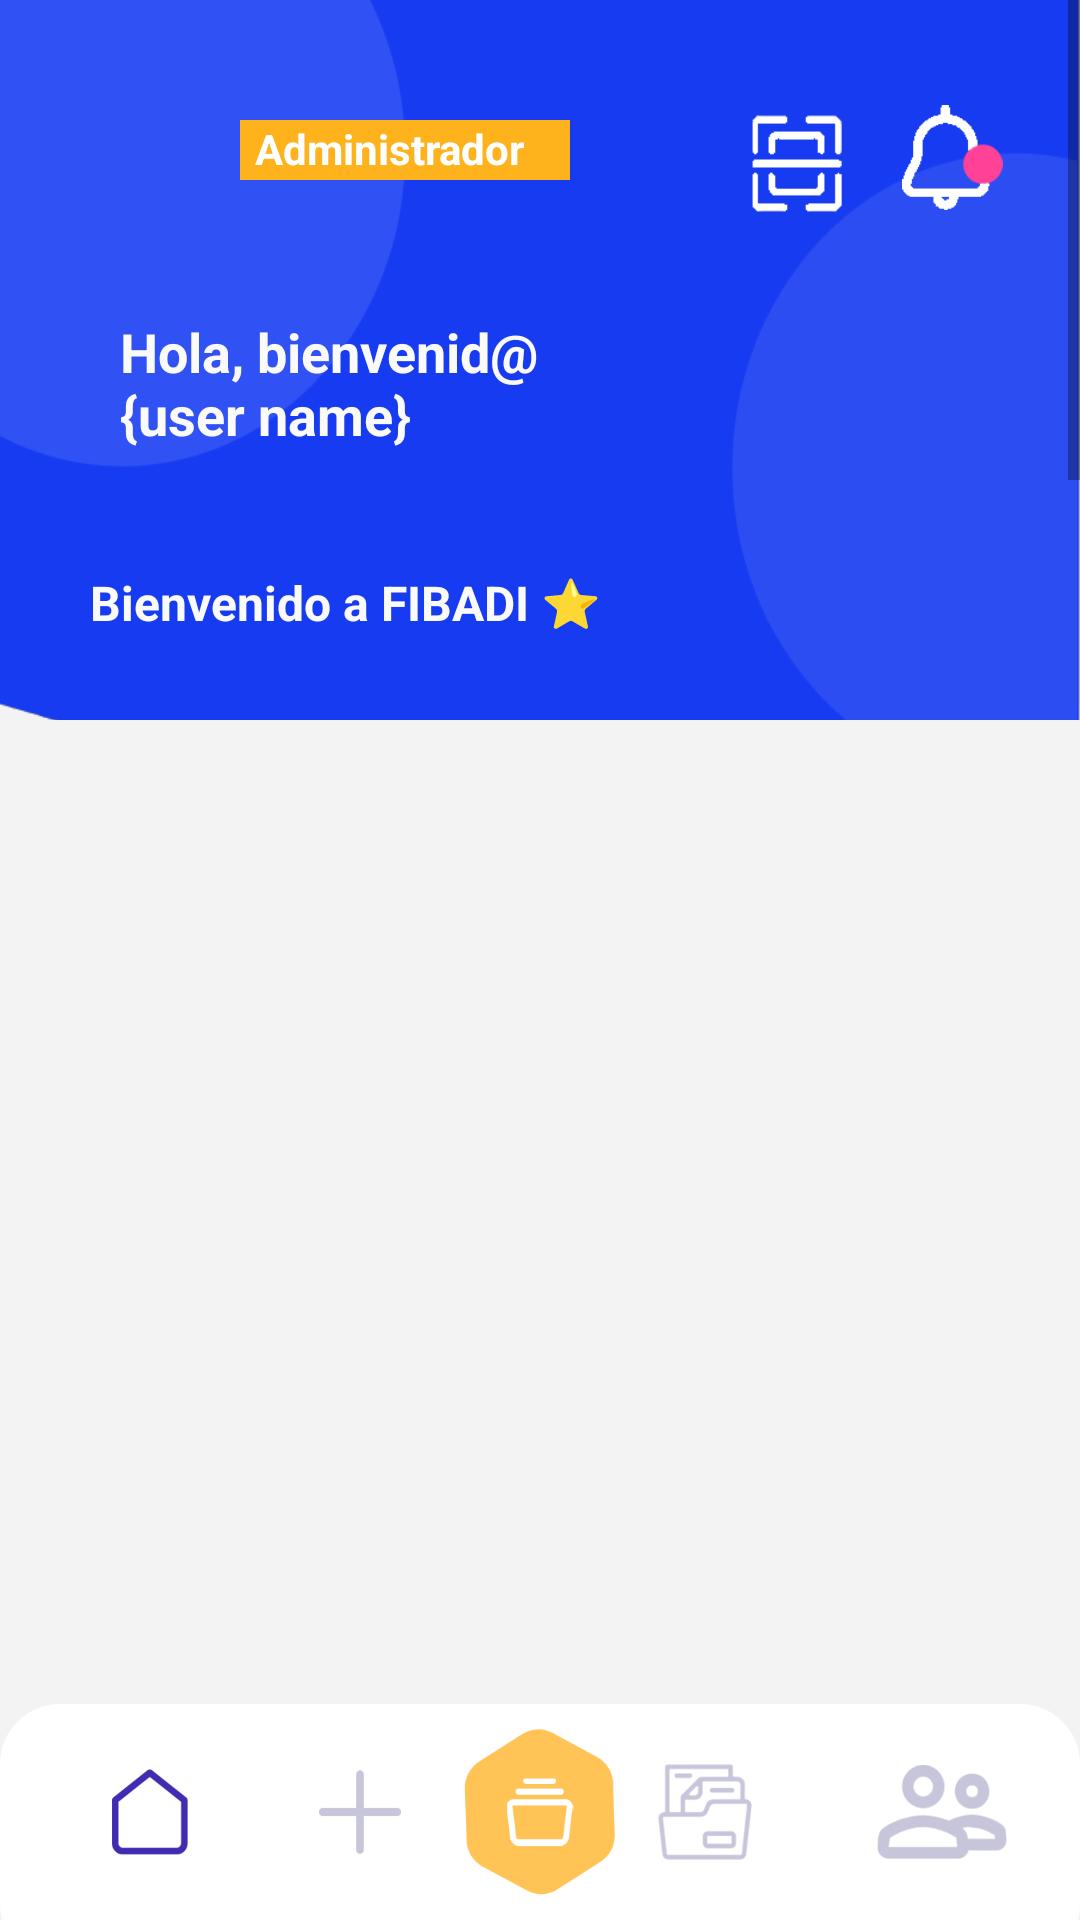

Screen size 1080px×1920px. Icon name, then its box in pixels as (x1, y1, x2, y2):
Abrir opciones de administración: (658, 1764, 752, 1860)
Abrir opciones del perfil y otros más: (878, 1765, 1006, 1859)
ir al home: (112, 1769, 188, 1855)
scanner: (752, 115, 842, 212)
